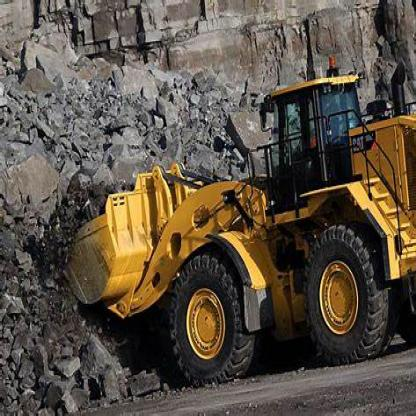bull_dozer/loader/grader: (56, 59, 415, 395)
